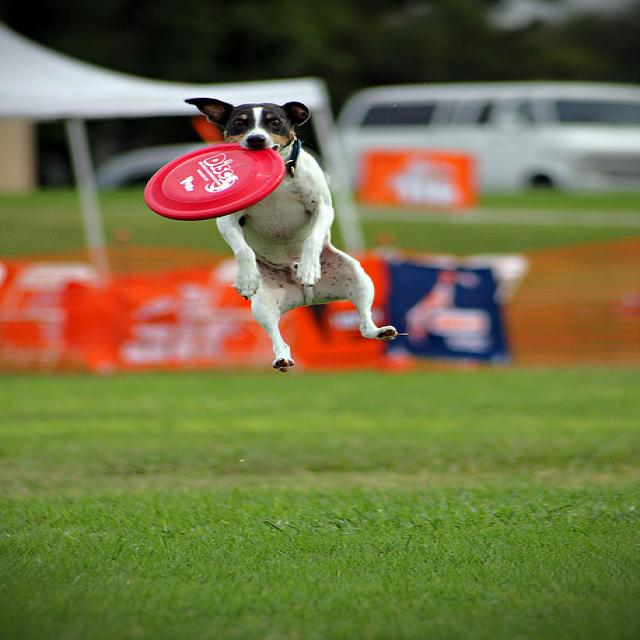Vehicle: (338, 82, 640, 195), (94, 140, 219, 193)
